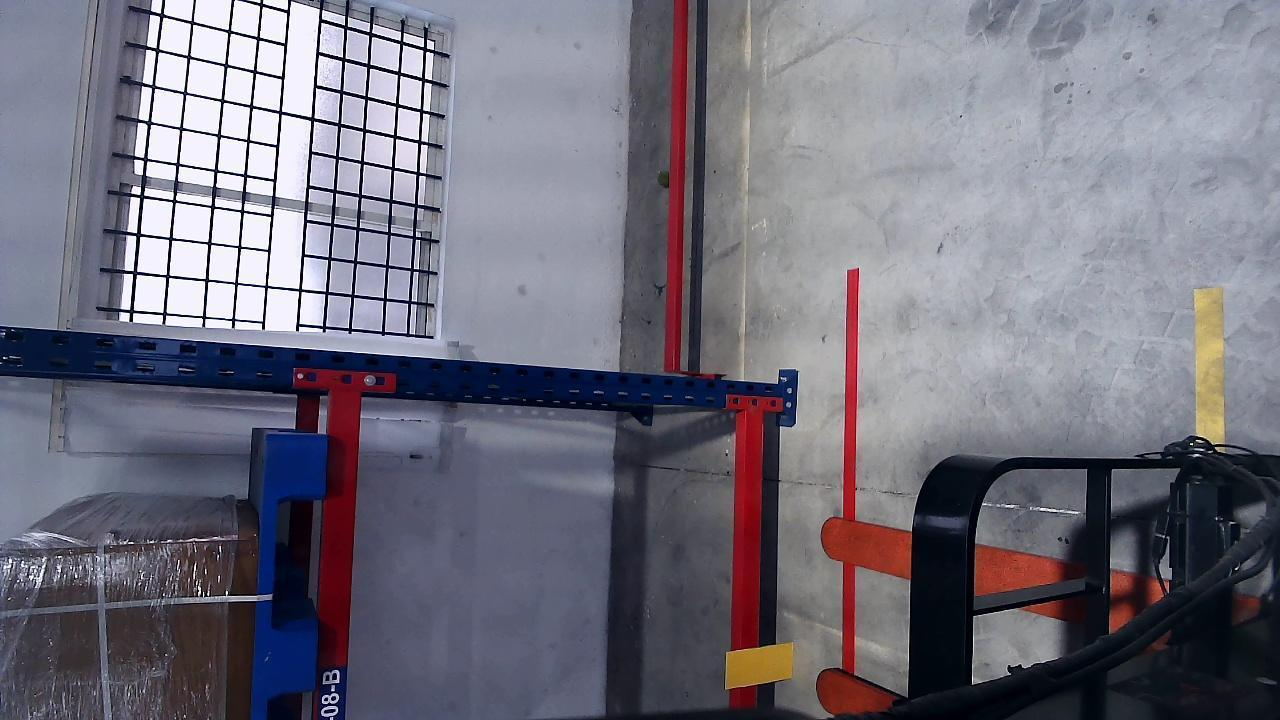red_line: (840, 267, 861, 518)
yellow_line: (1193, 286, 1225, 442)
